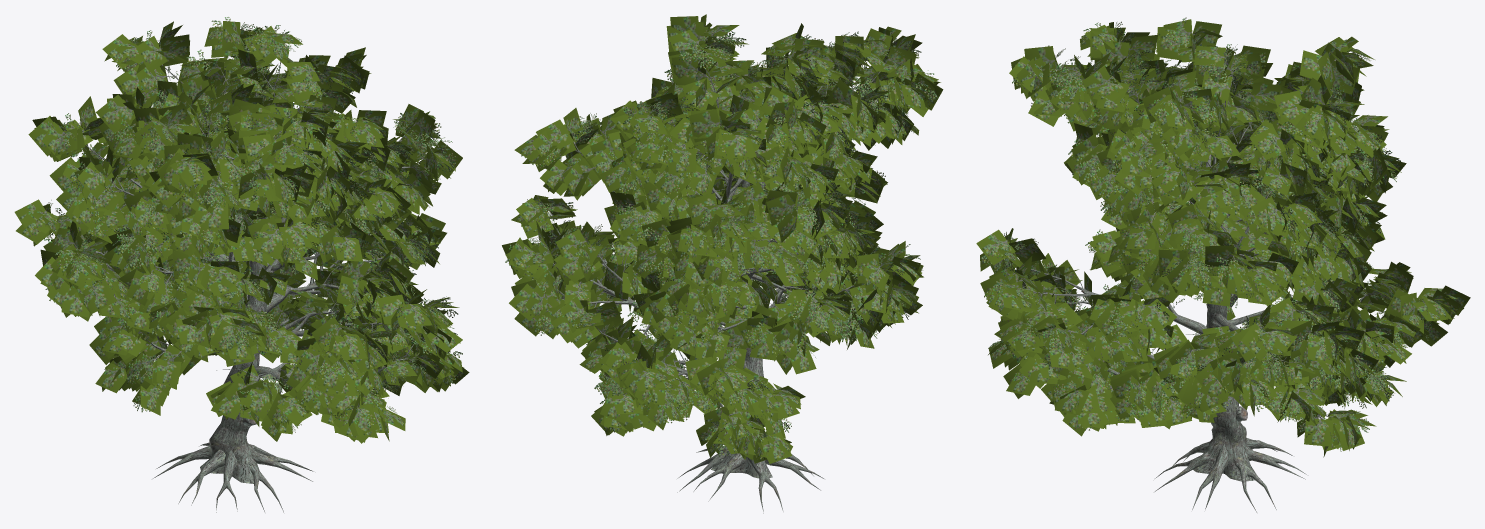
File: White_Oak.fbx
3 renders of one model, left to right at view 1: azimuth 30°, elevation 25°; view 2: azimuth 150°, elevation 25°; view 3: azimuth 270°, elevation 25°, orthographic. The views are drawn at different scales.
Parts seen in each view (by area): view 1: White_Oak_Hero_14; view 2: White_Oak_Hero_14; view 3: White_Oak_Hero_14.
Part boxes in pixels (left/top/right/bottom): White_Oak_Hero_14: left=14, top=17, right=469, bottom=512; White_Oak_Hero_14: left=502, top=14, right=943, bottom=513; White_Oak_Hero_14: left=976, top=17, right=1470, bottom=512.
Bounding box in the file's own units: 7.13 × 7.58 × 7.43.
Materials: 4 (4 with a texture image).
